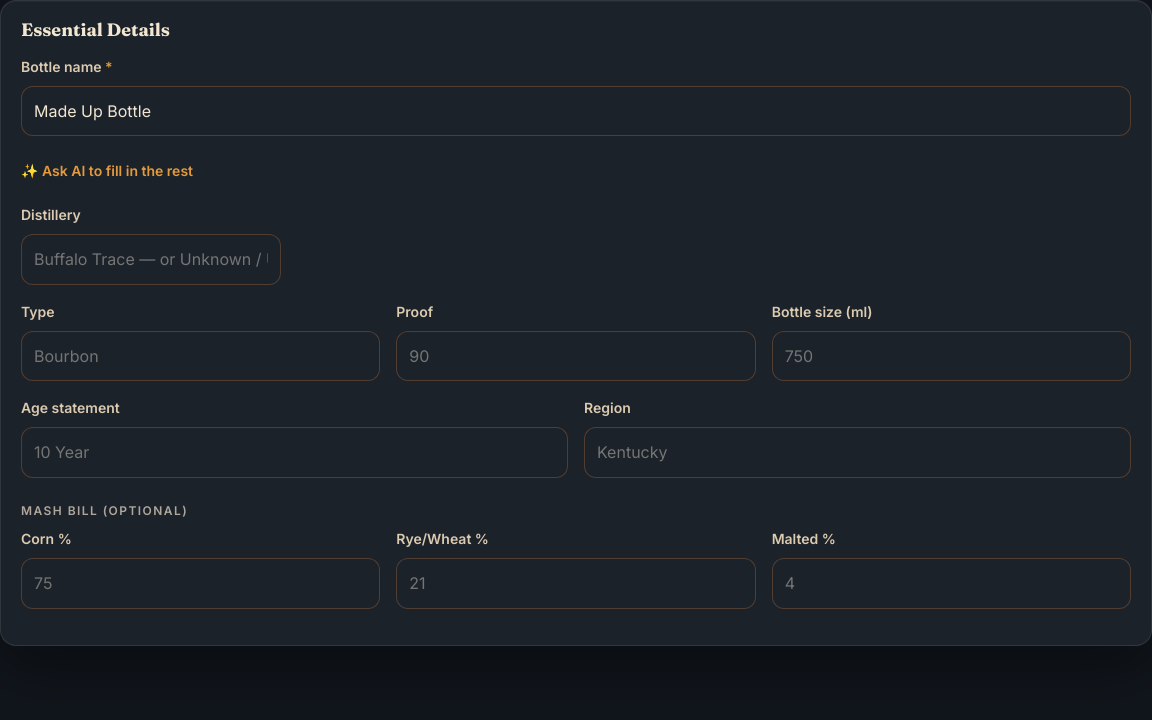
Test case: EssentialFieldsCard › shows a status message when Ask AI has no match
Click the button "✨ Ask AI to fill in the rest" at [107, 170], box [21,152,193,188]
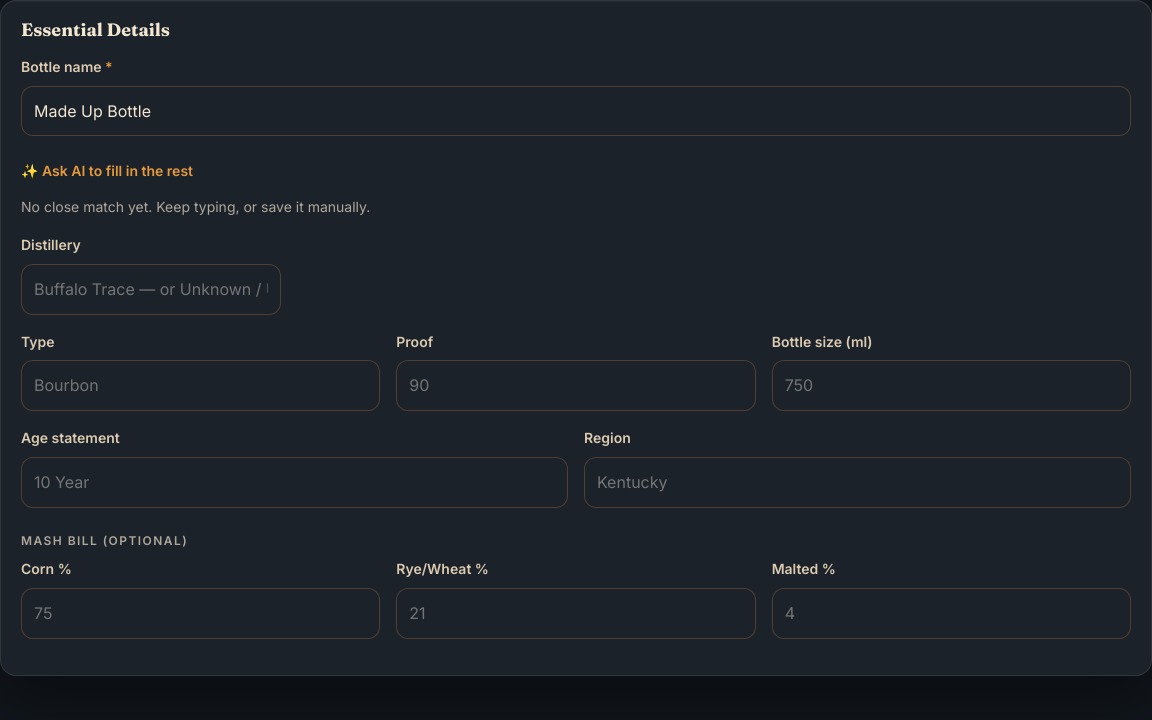
Check: the text "No close match yet. Keep typing, or save it manually." is shown, box [21,198,370,215]
